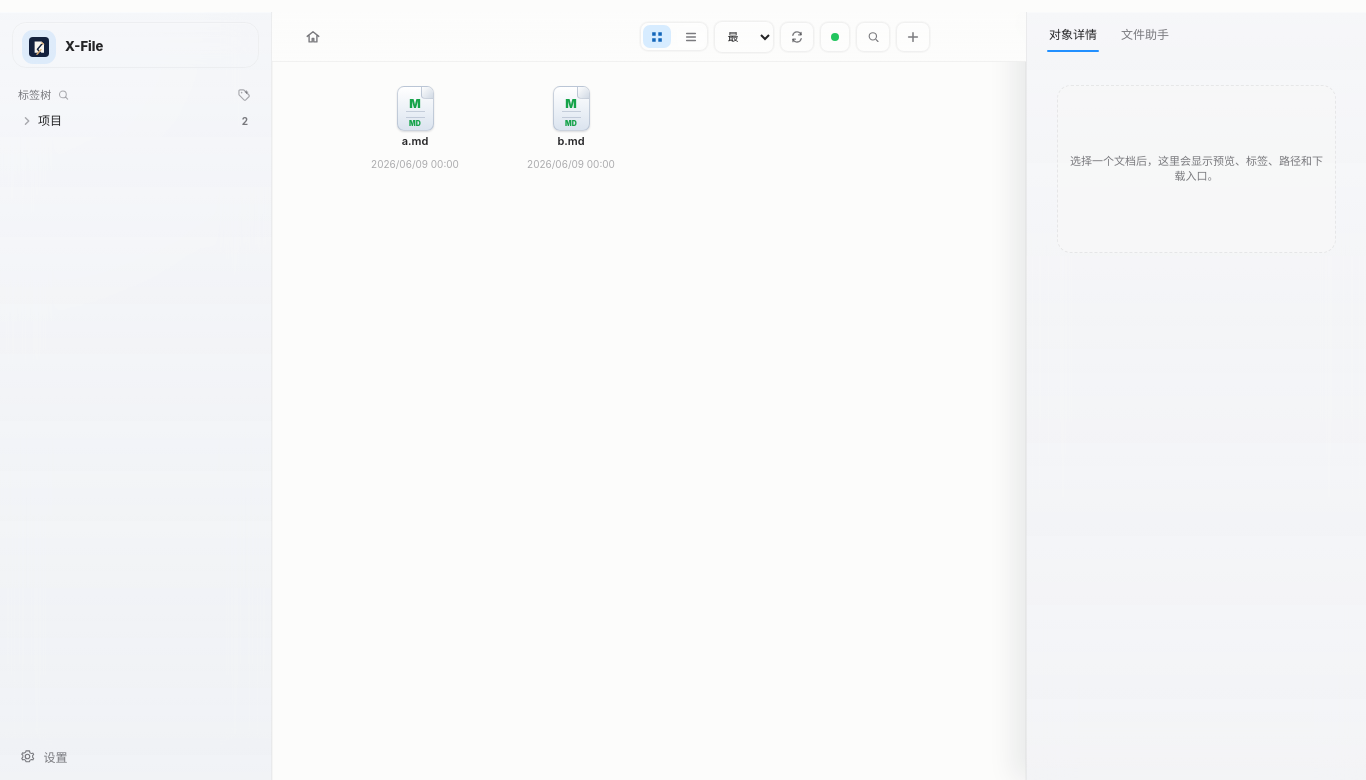
Scenario: 第 8 批：标签筛选树、多选过滤、徽标计数、排序、展开记忆与拼音搜索 › 标签筛选在列表视图可以切到目录视图，按文件实际路径分组显示
Click the button named "展开标签" at {"x": 27, "y": 121}, box [18,109,36,133]
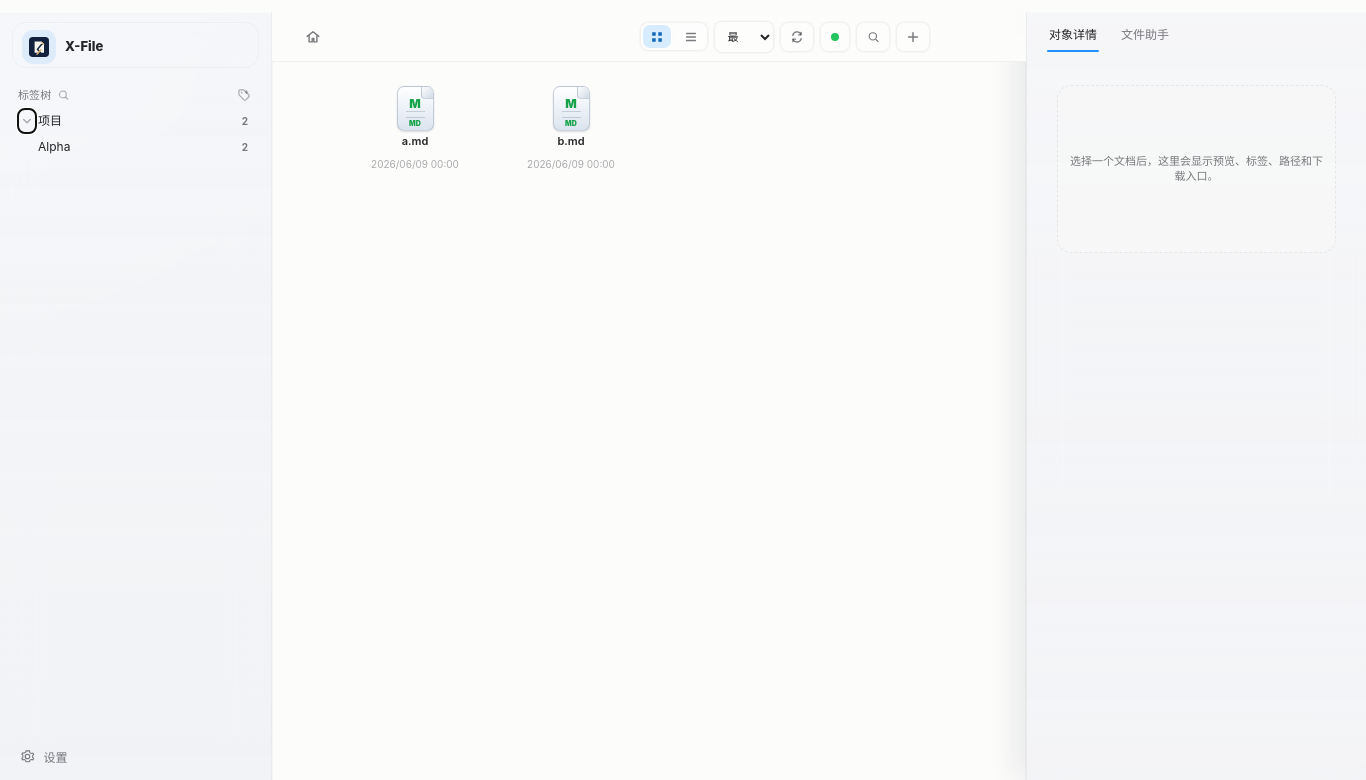
Click the button "Alpha 2" at {"x": 150, "y": 147}, box [38,134,263,160]
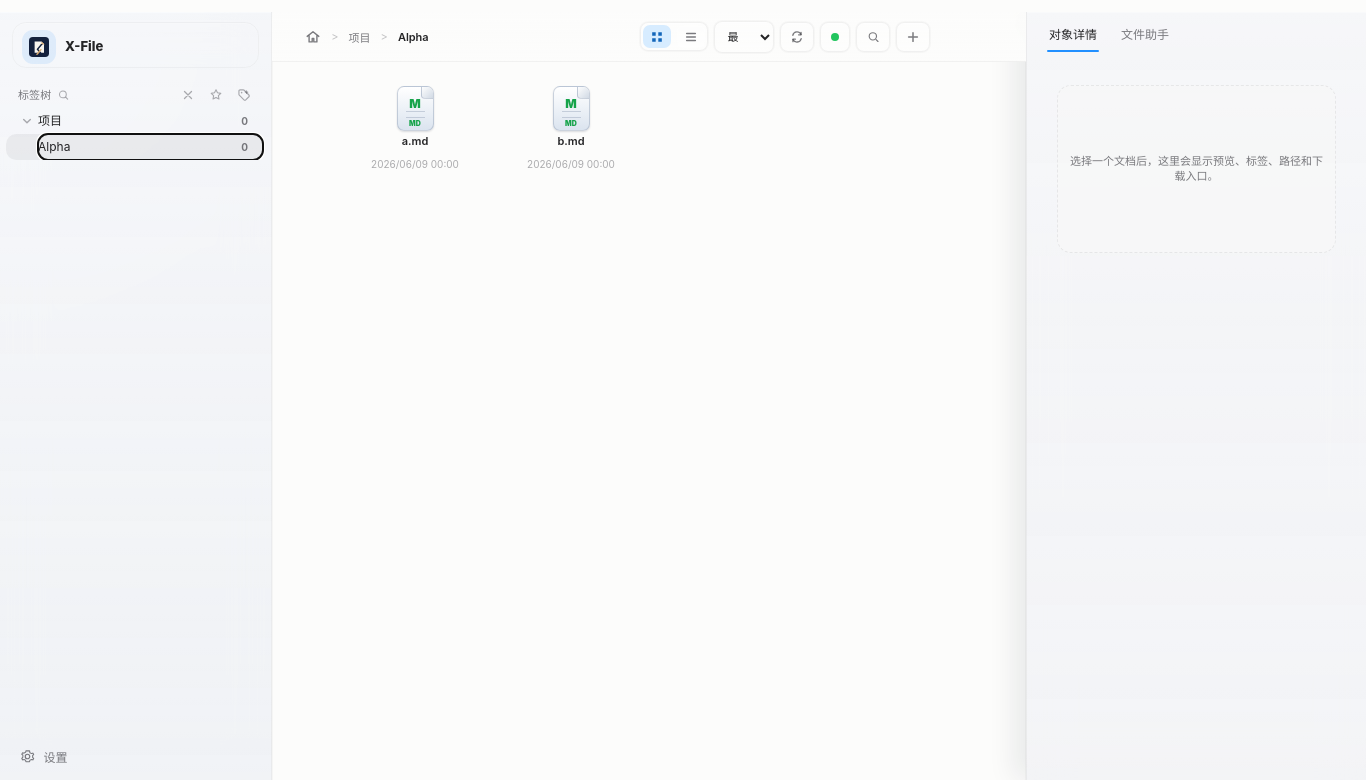
Click the button named "列表" at {"x": 691, "y": 36}, box [677,25,705,48]
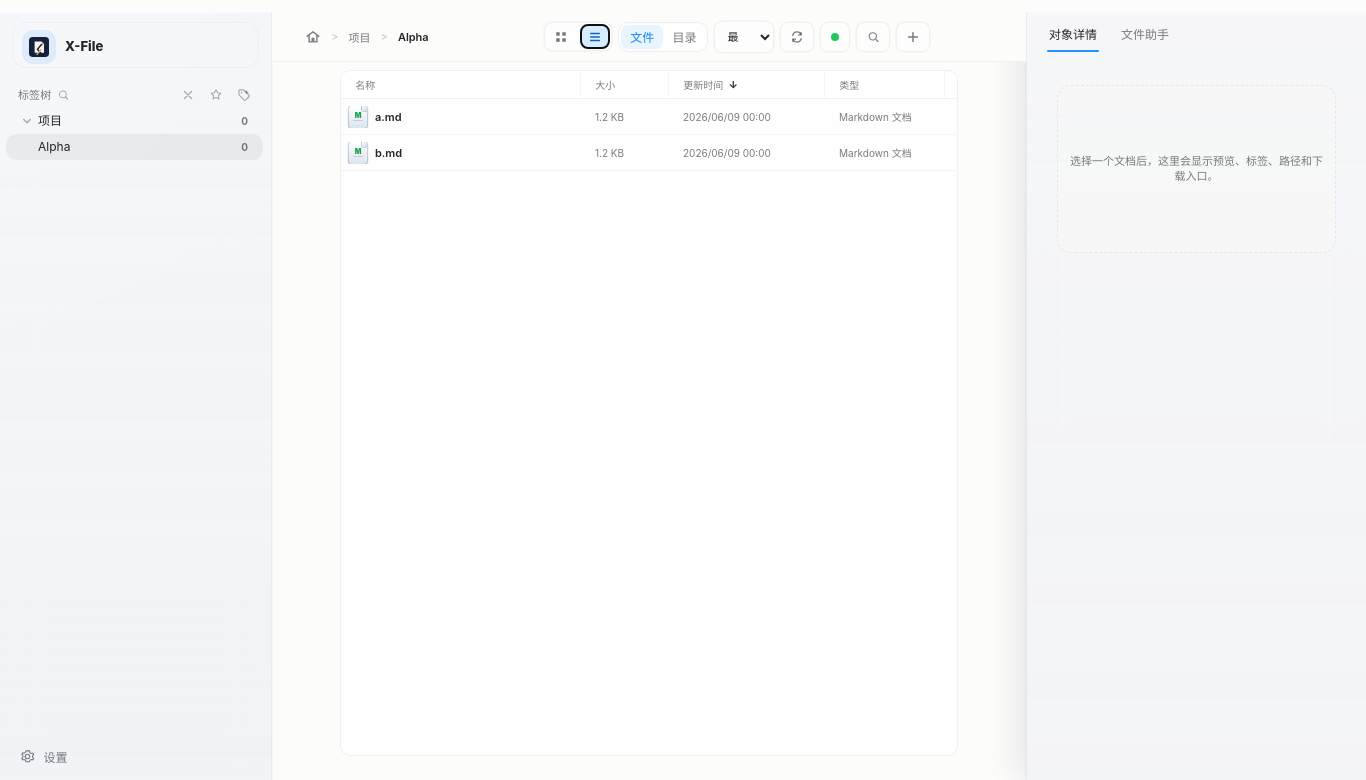
Click the button "目录" at {"x": 684, "y": 36}, box [663,24,705,48]
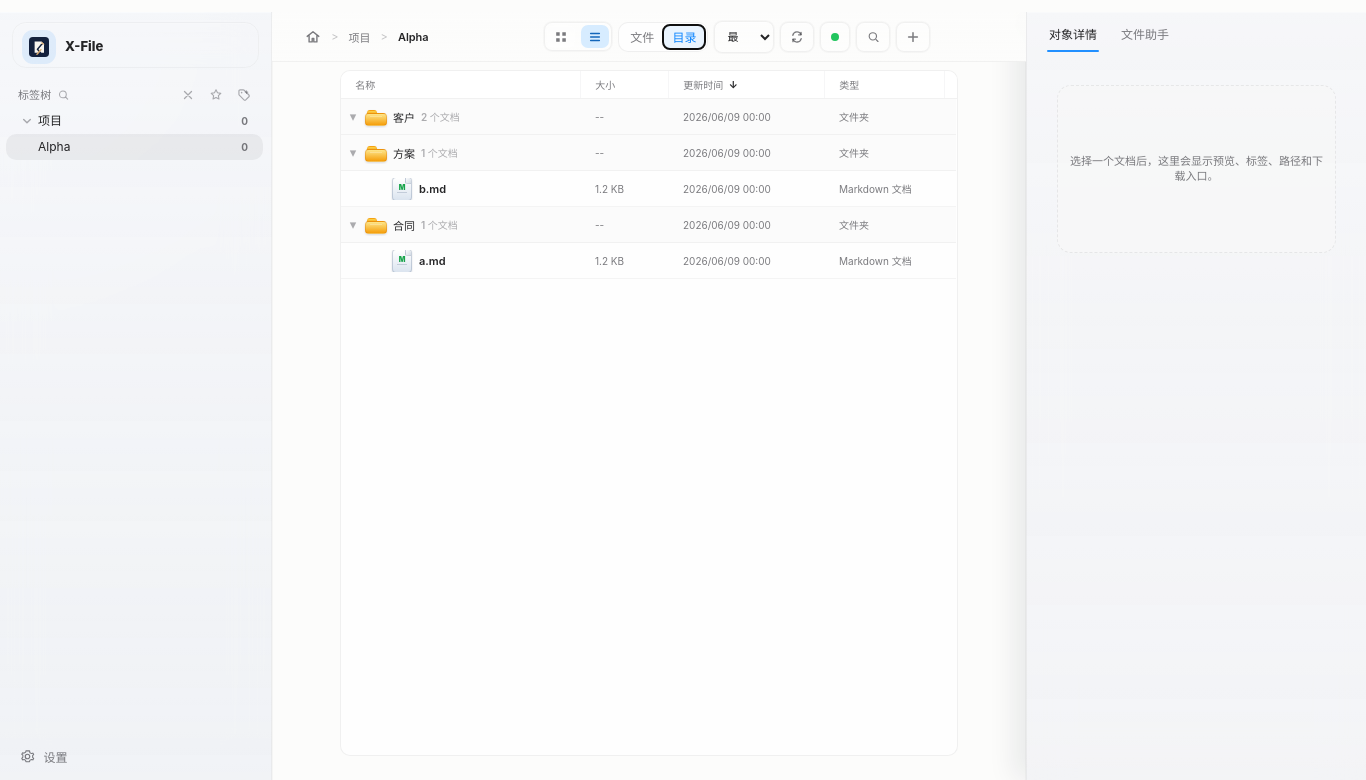
Now the button "▾ 客户 2 个文档 -- 2026/06/09 00:00 文件夹 --" is shown, box [341,99,957,135]
Now the button "▾ 合同 1 个文档 -- 2026/06/09 00:00 文件夹 --" is shown, box [341,207,957,243]
Now the button "▾ 方案 1 个文档 -- 2026/06/09 00:00 文件夹 --" is shown, box [341,135,957,171]
